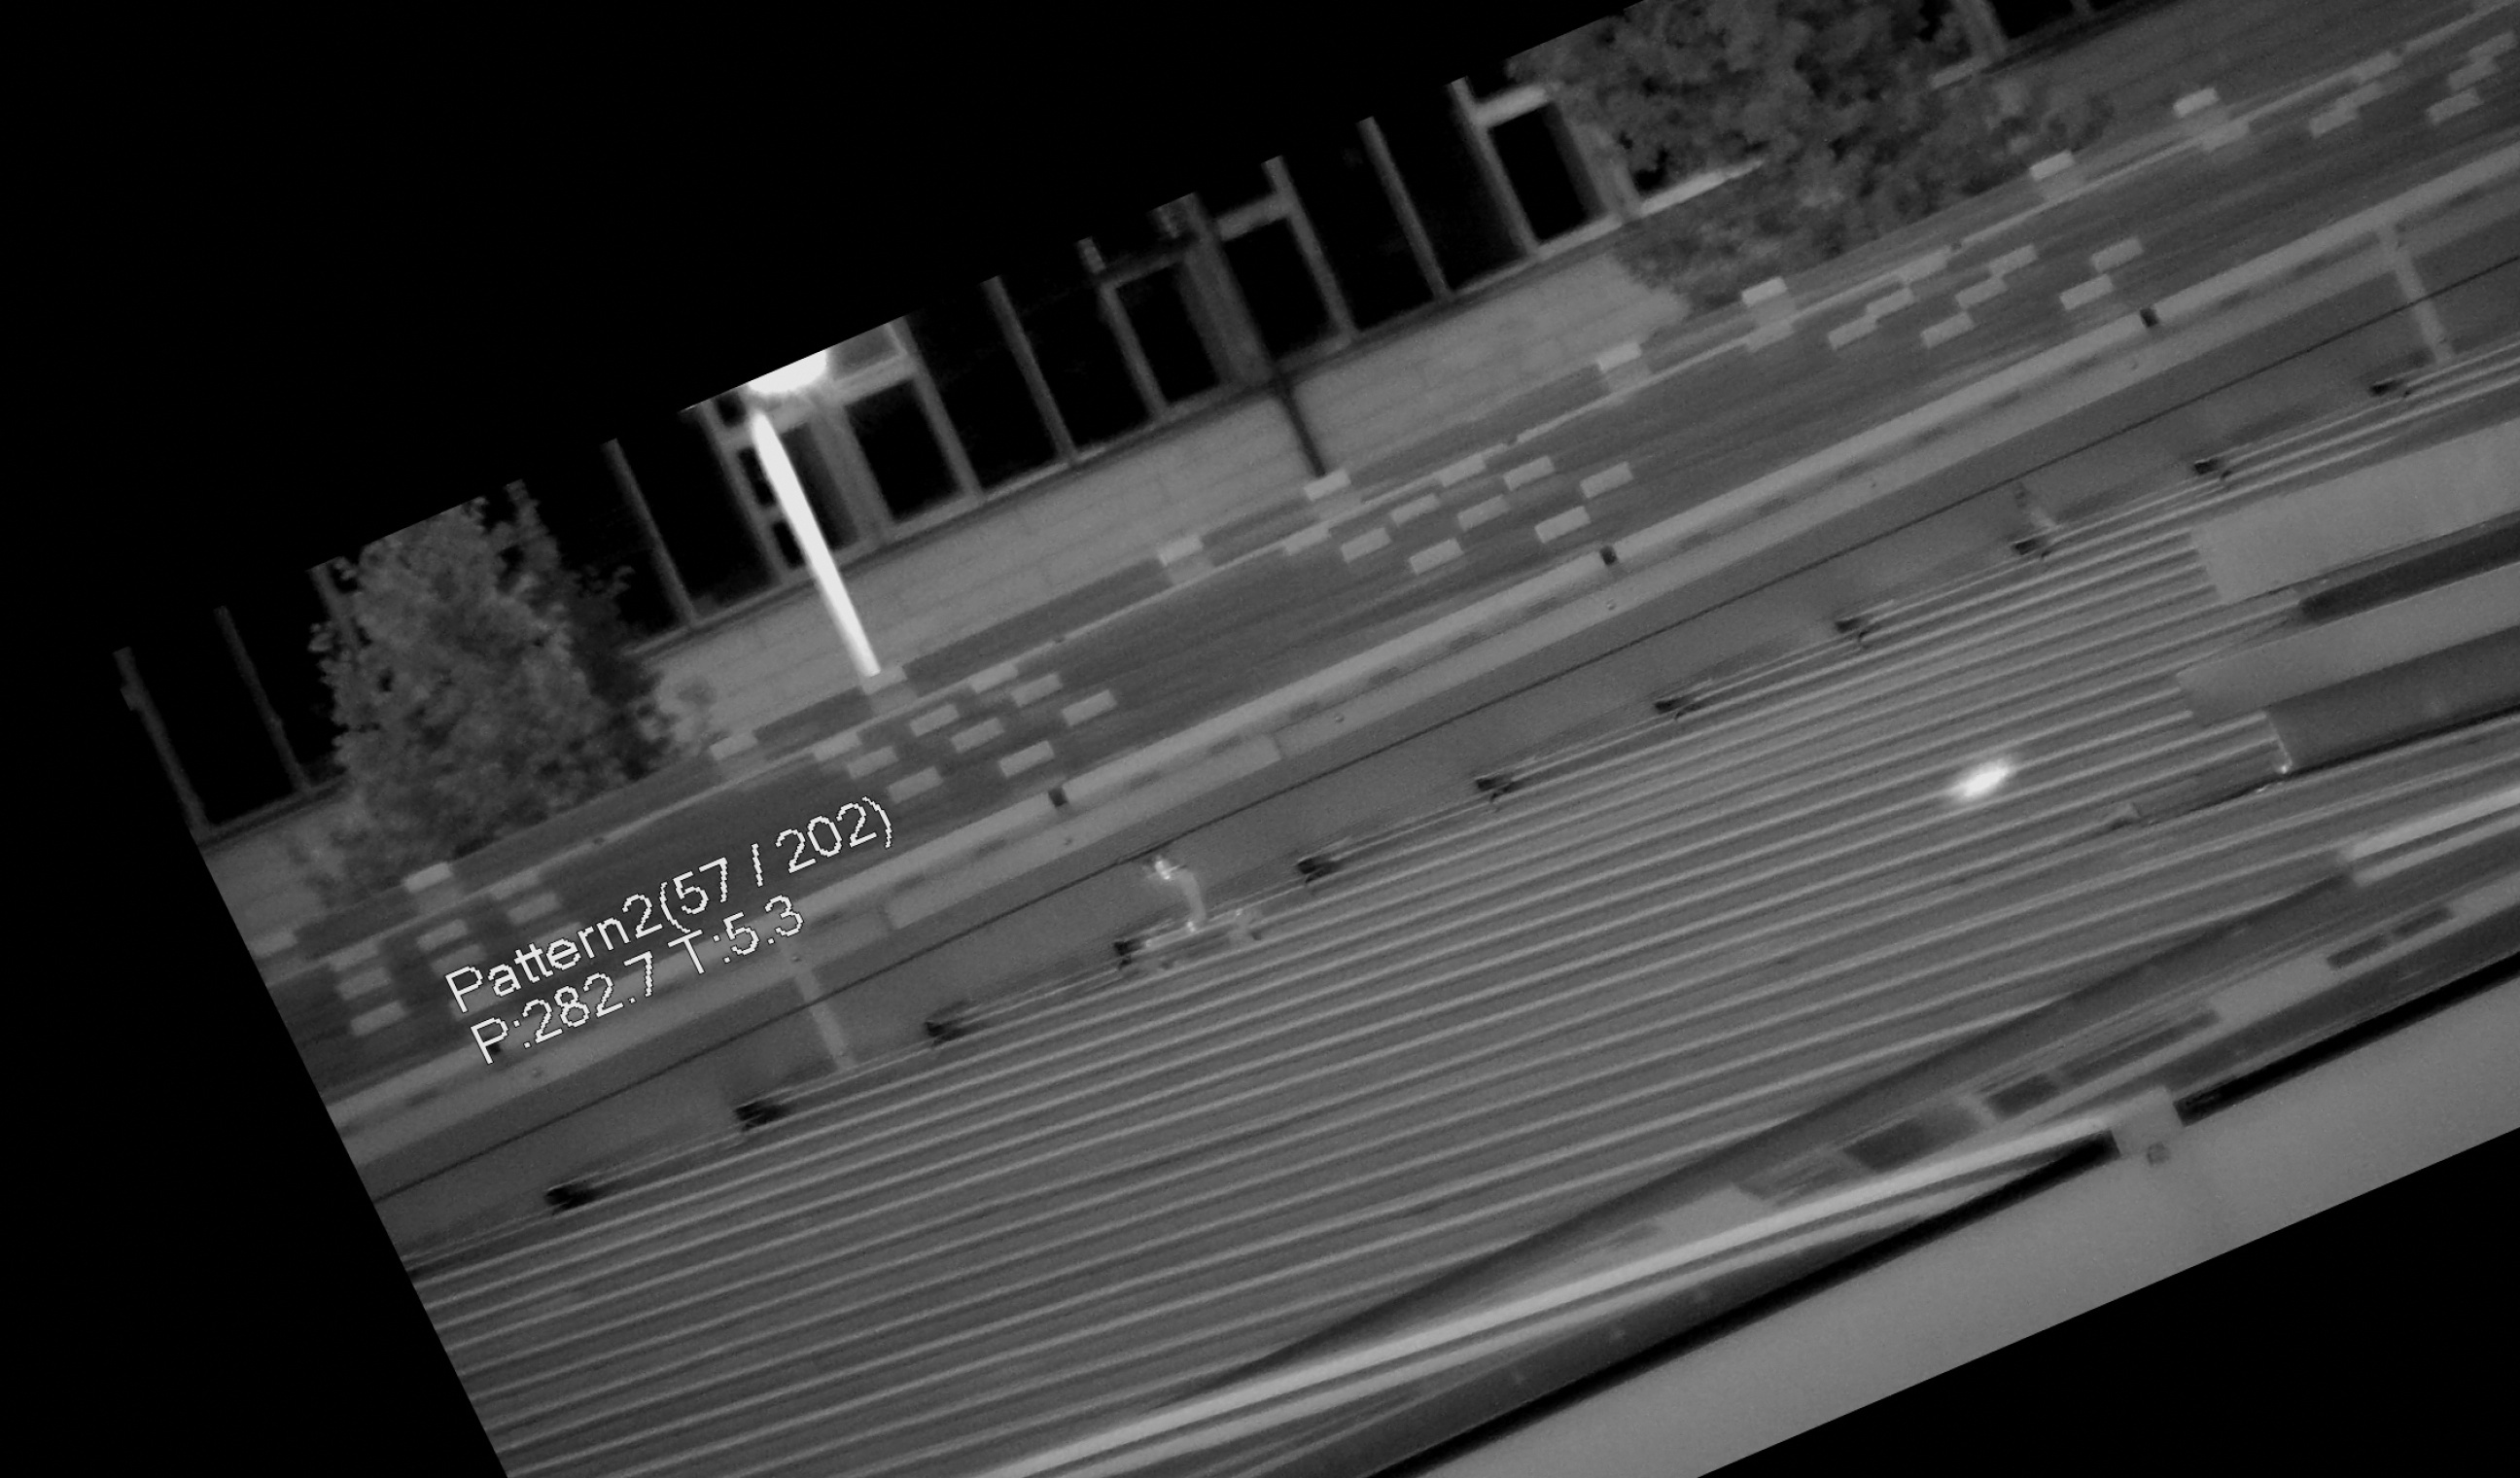Other: (1984, 465, 2086, 570)
